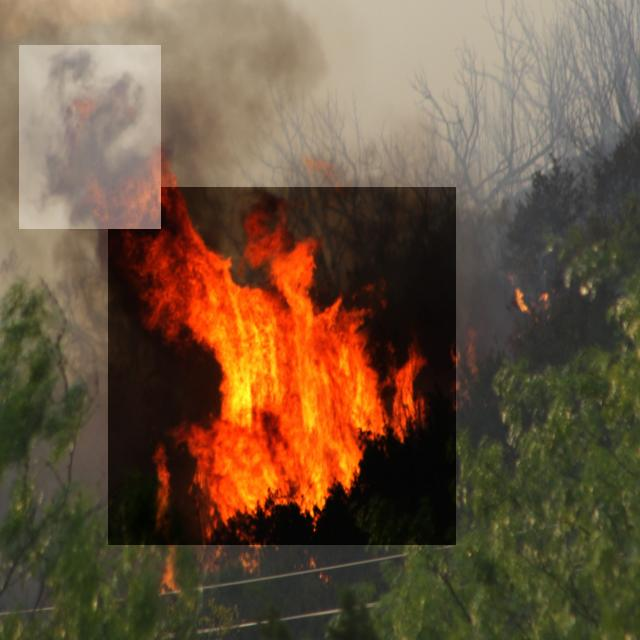Fire: (109, 187, 456, 545)
Smoke: (19, 45, 161, 229)
